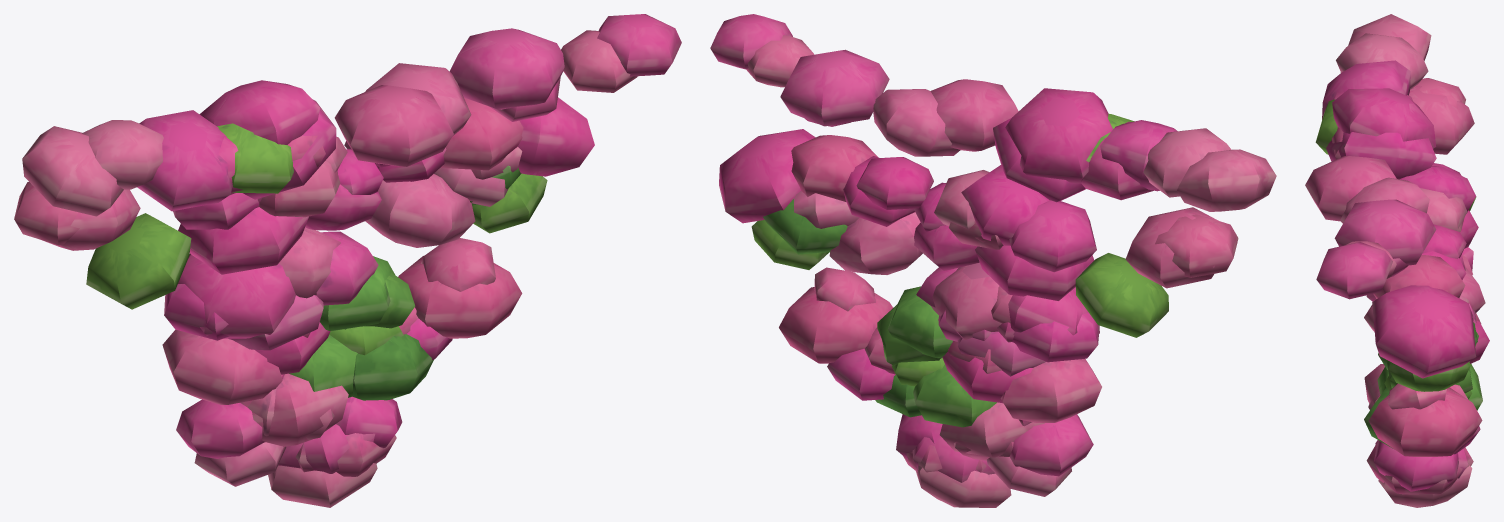
Rendered from bougainvillea_low.fbx.
The picture shows the model from 3 angles, left to right: view 1: azimuth 30°, elevation 25°; view 2: azimuth 150°, elevation 25°; view 3: azimuth 270°, elevation 25°; orthographic projection. The views are drawn at different scales.
Visible parts, largest first — view 1: bougainvillea; view 2: bougainvillea; view 3: bougainvillea.
Part boxes in pixels (bbox=[...]): bougainvillea: bbox=[14, 14, 681, 507]; bougainvillea: bbox=[710, 14, 1276, 507]; bougainvillea: bbox=[1305, 14, 1489, 507].
Bounding box in the file's own units: 6.72 × 4.58 × 2.04.
1 material, 1 textured.
